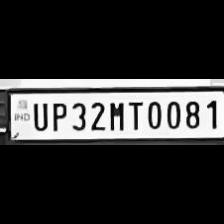0: (143, 98, 163, 130), (164, 98, 182, 130)
1: (203, 97, 221, 129)
2: (87, 98, 105, 132)
3: (68, 98, 86, 132)
8: (182, 97, 200, 129)
M: (106, 98, 127, 132)
P: (47, 99, 66, 131)
T: (126, 98, 144, 132)
U: (28, 99, 48, 130)
